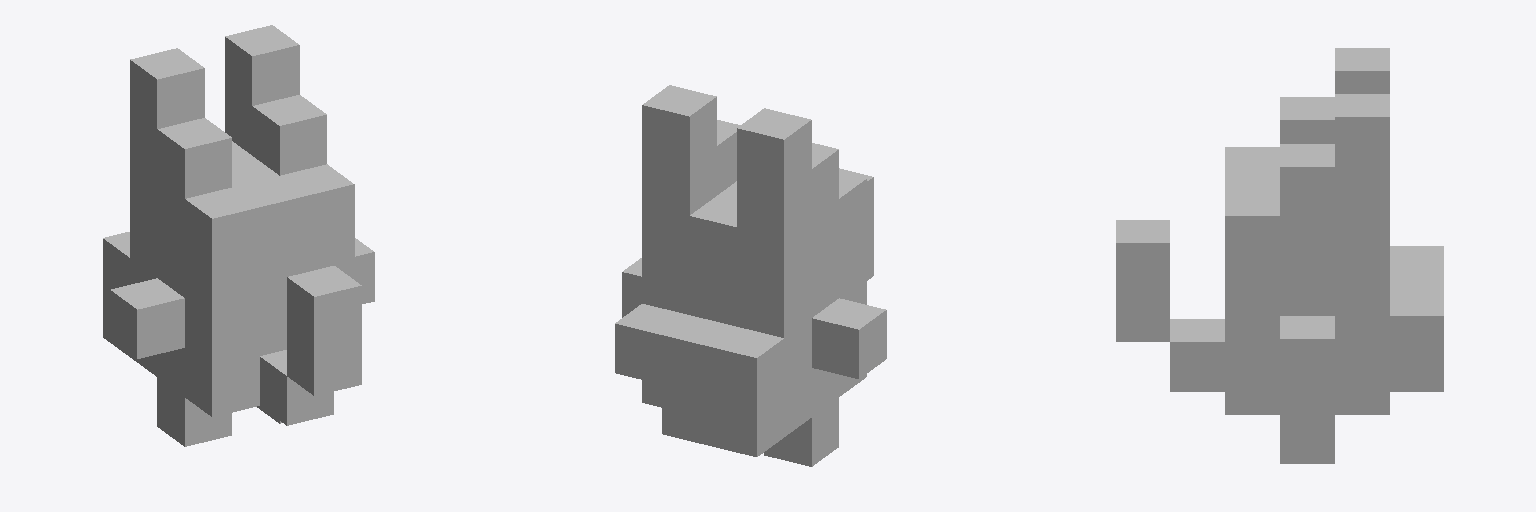
The model's file is GnomeFox.obj.
3 renders of one model, left to right at view 1: azimuth 30°, elevation 25°; view 2: azimuth 150°, elevation 25°; view 3: azimuth 270°, elevation 25°, orthographic.
Parts seen in each view (by area): view 1: GnomeFox; view 2: GnomeFox; view 3: GnomeFox.
Part boxes in pixels (x1,y1,x2,y2): GnomeFox: (103,25,374,446); GnomeFox: (615,85,886,466); GnomeFox: (1116,48,1443,463).
Bounding box in the file's own units: 0.5 × 0.7 × 0.6.